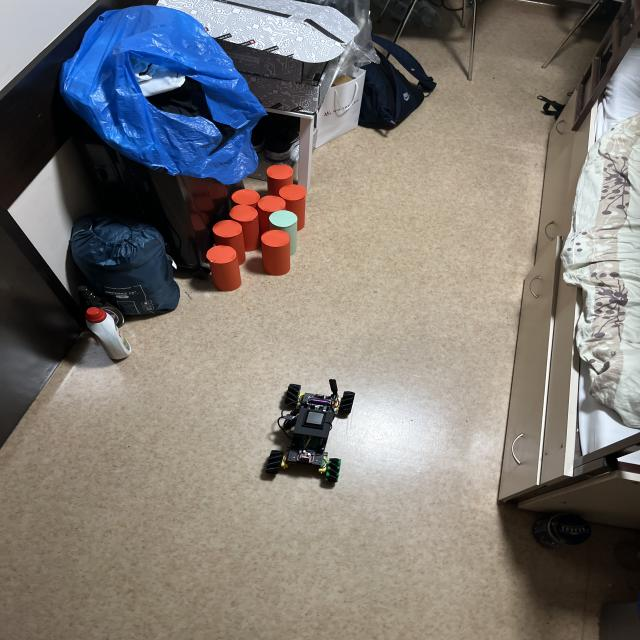robot: (265, 379, 355, 482)
